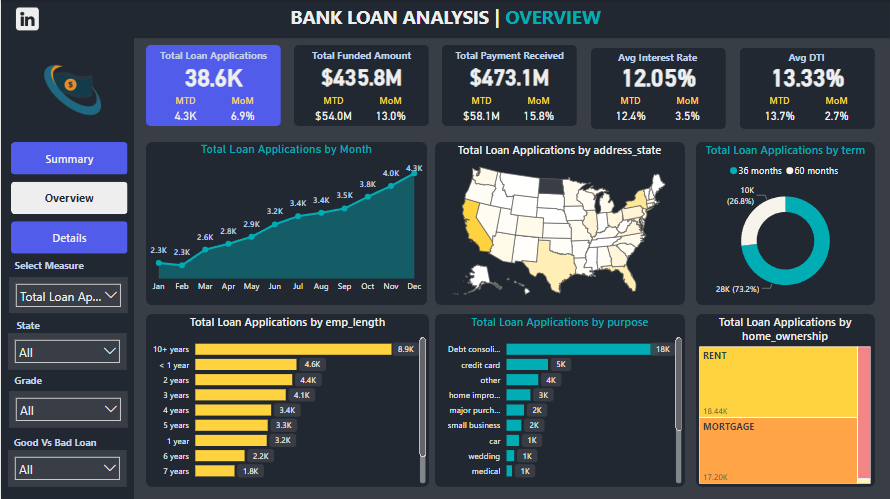

The page's visual inventory and layout, read from the dashboard file:
{"tool":"powerbi","page":{"name":"Overview","canvas":[1280,720],"ordinal":1},"visuals":[{"type":"shape","box":[0,0,1280.2,55],"z":0},{"type":"shape","box":[208.8,64.6,194.4,116.6],"z":0,"group":"g1"},{"type":"shape","box":[422,64.6,194.4,116.6],"z":0,"group":"g2"},{"type":"shape","box":[635.2,64.6,194.4,116.6],"z":0,"group":"g5"},{"type":"shape","box":[849.6,69.2,194.4,116.6],"z":0,"group":"g3"},{"type":"shape","box":[1063.9,69.2,194.4,116.6],"z":0,"group":"g4"},{"type":"card","fields":{"Values":["Measures Table.Total Loan Applications"]},"box":[208.8,81.9,194.4,53.3],"z":1000,"group":"g1"},{"type":"card","fields":{"Values":["Measures Table.Total Funded Amount"]},"box":[422,81.9,194.4,53.3],"z":1000,"group":"g2"},{"type":"card","fields":{"Values":["Measures Table.Total Payment Received"]},"box":[635.2,81.9,194.4,53.3],"z":1000,"group":"g5"},{"type":"card","fields":{"Values":["Measures Table.Avg Interest Rate"]},"box":[849.3,81.9,194.4,53.3],"z":1000,"group":"g3"},{"type":"card","fields":{"Values":["Measures Table.Avg DTI"]},"box":[1063.6,81.9,194.4,53.3],"z":1000,"group":"g4"},{"type":"shape","box":[208.8,204.5,405,235],"z":1000},{"type":"shape","box":[0,54.7,191.5,665.3],"z":2000},{"type":"textbox","box":[208.8,64.6,194.4,40.3],"z":2000,"group":"g1"},{"type":"textbox","box":[422,64.6,194.4,40.3],"z":2000,"group":"g2"},{"type":"textbox","box":[635.2,64.6,194.4,40.3],"z":2000,"group":"g5"},{"type":"textbox","box":[849.3,64.6,194.4,40.3],"z":2000,"group":"g3"},{"type":"textbox","box":[1063.6,64.6,194.4,40.3],"z":2000,"group":"g4"},{"type":"card","title":"MTD","fields":{"Values":["Measures Table.MTD Loan Applications"]},"box":[224.6,135.2,82.1,47.5],"z":3000,"group":"g1"},{"type":"card","title":"MTD","fields":{"Values":["Measures Table.MTD Funded Amount"]},"box":[437.8,135.2,82.1,47.5],"z":3000,"group":"g2"},{"type":"card","title":"MTD","fields":{"Values":["Measures Table.MTD Payment Received"]},"box":[651,135.2,82.1,47.5],"z":3000,"group":"g5"},{"type":"card","title":"MTD","fields":{"Values":["Measures Table.MTD Interest Rate"]},"box":[865.2,135.2,82.1,47.5],"z":3000,"group":"g3"},{"type":"card","title":"MTD","fields":{"Values":["Measures Table.MTD DTI"]},"box":[1079.5,135.2,82.1,47.5],"z":3000,"group":"g4"},{"type":"textbox","box":[11.5,453.6,54.7,36],"z":3000},{"type":"textbox","box":[0,0,1280.2,54.7],"z":4000},{"type":"card","title":"MoM","fields":{"Values":["Measures Table.MoM Loan Application"]},"box":[306.7,135.2,82.1,47.5],"z":4000,"group":"g1"},{"type":"card","title":"MoM","fields":{"Values":["Measures Table.MoM Funded Amount"]},"box":[519.9,135.2,82.1,47.5],"z":4000,"group":"g2"},{"type":"card","title":"MoM","fields":{"Values":["Measures Table.MoM Payment Received"]},"box":[733.1,135.2,82.1,47.5],"z":4000,"group":"g5"},{"type":"card","title":"MoM","fields":{"Values":["Measures Table.MoM Interest Rate"]},"box":[947.2,135.2,82.1,47.5],"z":4000,"group":"g3"},{"type":"card","title":"MoM","fields":{"Values":["Measures Table.MoM DTI"]},"box":[1161.5,135.2,82.1,47.5],"z":4000,"group":"g4"},{"type":"group","id":"g1","title":"Total Loan Application","box":[208.8,64.6,194.4,118.1],"z":5000},{"type":"textbox","box":[848.4,68.1,194.4,40.3],"z":5000,"group":"g3"},{"type":"textbox","box":[1062.7,68.1,194.4,40.3],"z":5000,"group":"g4"},{"type":"group","id":"g2","title":"Total Funded Amount","box":[422,64.6,194.4,118.1],"z":6000},{"type":"group","id":"g3","title":"Avg Interest Rate","box":[848.4,64.6,195.6,121.2],"z":7000},{"type":"group","id":"g4","title":"Avg DTI","box":[1062.7,64.6,195.8,121],"z":8000},{"type":"group","id":"g5","title":"Total Payment Received","box":[635.2,64.6,194.4,118.1],"z":9000},{"type":"slicer","fields":{"Values":["bank_loan_data.address_state"]},"box":[10.4,479.5,171.4,53.3],"z":10000},{"type":"textbox","box":[10.1,532.8,57.6,47.5],"z":11000},{"type":"slicer","fields":{"Values":["bank_loan_data.grade"]},"box":[11.8,563,171.4,53.3],"z":12000},{"type":"textbox","box":[7.2,622.1,141.1,36],"z":13000},{"type":"slicer","fields":{"Values":["bank_loan_data.Good vs Bad Loan"]},"box":[10.4,647.8,171.4,53.3],"z":14000},{"type":"areaChart","fields":{"Y":["Measures Table.Total Loan Applications"],"Category":["Date Table.Month"]},"box":[208.8,204.5,404.6,234.7],"z":15000},{"type":"slicer","fields":{"Values":["Select Measure.Select Measure"]},"box":[11.8,398.9,171.4,51.8],"z":16000},{"type":"textbox","box":[7.2,367.2,123.8,44.6],"z":17000},{"type":"shape","box":[625,204.5,360,234.7],"z":18000},{"type":"shapeMap","fields":{"Value":["Measures Table.Total Loan Applications"],"Category":["bank_loan_data.address_state"]},"box":[623.5,204.5,361.4,234.7],"z":19000},{"type":"shape","box":[1000.8,204.5,257.8,234.7],"z":20000},{"type":"donutChart","fields":{"Y":["Measures Table.Total Loan Applications"],"Category":["bank_loan_data.term"]},"box":[1000.8,204.5,257.8,234.7],"z":21000},{"type":"shape","box":[208.8,452.2,407.5,249.1],"z":22000},{"type":"shape","box":[625,452.2,360,249.1],"z":23000},{"type":"shape","box":[1000.8,452.2,257.8,249.1],"z":24000},{"type":"barChart","fields":{"Y":["Measures Table.Total Loan Applications"],"Category":["bank_loan_data.emp_length"]},"box":[208.8,452.2,407.5,249.1],"z":25000},{"type":"barChart","fields":{"Y":["Measures Table.Total Loan Applications"],"Category":["bank_loan_data.purpose"]},"box":[625,452.2,360,249.1],"z":26000},{"type":"treemap","fields":{"Values":["Measures Table.Total Loan Applications"],"Group":["bank_loan_data.home_ownership"]},"box":[1000.8,452.2,256.3,249.1],"z":27000},{"type":"image","box":[7.2,54.7,191.5,149.8],"z":28000},{"type":"pageNavigator","box":[14.4,204.5,168.5,161.3],"z":29000},{"type":"image","box":[11.5,5.8,53.3,43.2],"z":30000}]}

Visuals, with their boxes in screenshot pixels (x1, y1, x2, y2), scaled from the page's 1280x720 canvas onto the 890x499 screenshot:
shape: (x1=0, y1=0, x2=889, y2=38)
shape: (x1=145, y1=45, x2=280, y2=126)
shape: (x1=293, y1=45, x2=429, y2=126)
shape: (x1=442, y1=45, x2=577, y2=126)
shape: (x1=591, y1=48, x2=726, y2=129)
shape: (x1=740, y1=48, x2=875, y2=129)
card - Measures Table.Total Loan Applications: (x1=145, y1=57, x2=280, y2=94)
card - Measures Table.Total Funded Amount: (x1=293, y1=57, x2=429, y2=94)
card - Measures Table.Total Payment Received: (x1=442, y1=57, x2=577, y2=94)
card - Measures Table.Avg Interest Rate: (x1=591, y1=57, x2=726, y2=94)
card - Measures Table.Avg DTI: (x1=740, y1=57, x2=875, y2=94)
shape: (x1=145, y1=142, x2=427, y2=305)
shape: (x1=0, y1=38, x2=133, y2=498)
textbox: (x1=145, y1=45, x2=280, y2=73)
textbox: (x1=293, y1=45, x2=429, y2=73)
textbox: (x1=442, y1=45, x2=577, y2=73)
textbox: (x1=591, y1=45, x2=726, y2=73)
textbox: (x1=740, y1=45, x2=875, y2=73)
"MTD" card: (x1=156, y1=94, x2=213, y2=127)
"MTD" card: (x1=304, y1=94, x2=361, y2=127)
"MTD" card: (x1=453, y1=94, x2=510, y2=127)
"MTD" card: (x1=602, y1=94, x2=659, y2=127)
"MTD" card: (x1=751, y1=94, x2=808, y2=127)
textbox: (x1=8, y1=314, x2=46, y2=339)
textbox: (x1=0, y1=0, x2=889, y2=38)
"MoM" card: (x1=213, y1=94, x2=270, y2=127)
"MoM" card: (x1=361, y1=94, x2=419, y2=127)
"MoM" card: (x1=510, y1=94, x2=567, y2=127)
"MoM" card: (x1=659, y1=94, x2=716, y2=127)
"MoM" card: (x1=808, y1=94, x2=865, y2=127)
"Total Loan Application" group: (x1=145, y1=45, x2=280, y2=127)
textbox: (x1=590, y1=47, x2=725, y2=75)
textbox: (x1=739, y1=47, x2=874, y2=75)
"Total Funded Amount" group: (x1=293, y1=45, x2=429, y2=127)
"Avg Interest Rate" group: (x1=590, y1=45, x2=726, y2=129)
"Avg DTI" group: (x1=739, y1=45, x2=875, y2=129)
"Total Payment Received" group: (x1=442, y1=45, x2=577, y2=127)
slicer - bank_loan_data.address_state: (x1=7, y1=332, x2=126, y2=369)
textbox: (x1=7, y1=369, x2=47, y2=402)
slicer - bank_loan_data.grade: (x1=8, y1=390, x2=127, y2=427)
textbox: (x1=5, y1=431, x2=103, y2=456)
slicer - bank_loan_data.Good vs Bad Loan: (x1=7, y1=449, x2=126, y2=486)
areaChart - Measures Table.Total Loan Applications x Date Table.Month: (x1=145, y1=142, x2=427, y2=304)
slicer - Select Measure.Select Measure: (x1=8, y1=276, x2=127, y2=312)
textbox: (x1=5, y1=254, x2=91, y2=285)
shape: (x1=435, y1=142, x2=685, y2=304)
shapeMap - Measures Table.Total Loan Applications x bank_loan_data.address_state: (x1=434, y1=142, x2=685, y2=304)
shape: (x1=696, y1=142, x2=875, y2=304)
donutChart - Measures Table.Total Loan Applications x bank_loan_data.term: (x1=696, y1=142, x2=875, y2=304)
shape: (x1=145, y1=313, x2=429, y2=486)
shape: (x1=435, y1=313, x2=685, y2=486)
shape: (x1=696, y1=313, x2=875, y2=486)
barChart - Measures Table.Total Loan Applications x bank_loan_data.emp_length: (x1=145, y1=313, x2=429, y2=486)
barChart - Measures Table.Total Loan Applications x bank_loan_data.purpose: (x1=435, y1=313, x2=685, y2=486)
treemap - Measures Table.Total Loan Applications x bank_loan_data.home_ownership: (x1=696, y1=313, x2=874, y2=486)
image: (x1=5, y1=38, x2=138, y2=142)
pageNavigator: (x1=10, y1=142, x2=127, y2=254)
image: (x1=8, y1=4, x2=45, y2=34)
